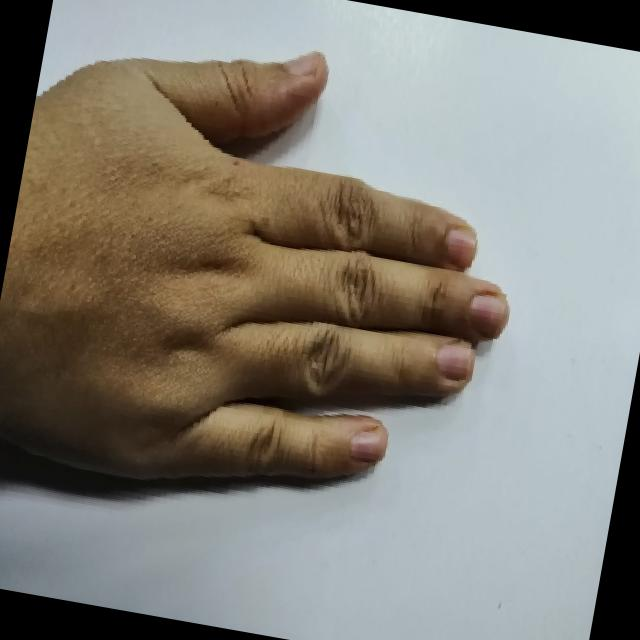Nail: (468, 293, 507, 335), (435, 343, 474, 381), (348, 429, 387, 463), (444, 227, 475, 268), (283, 52, 319, 75)
